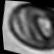correct: (1, 0, 54, 54)
